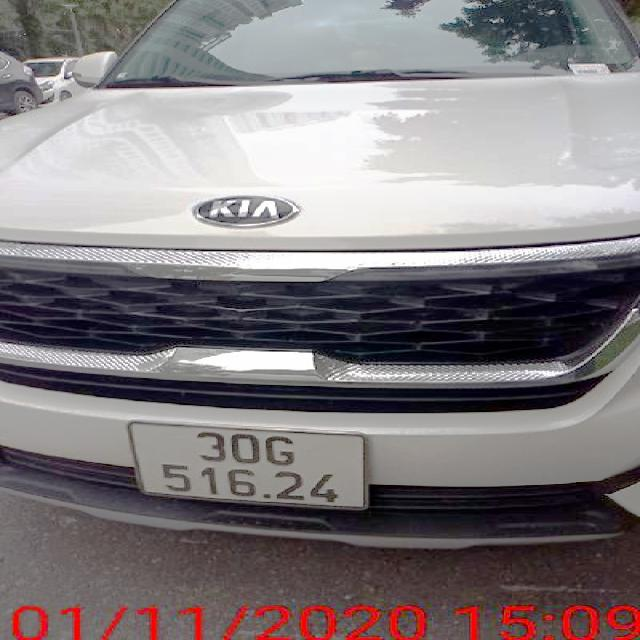license_plate: (129, 422, 364, 509)
